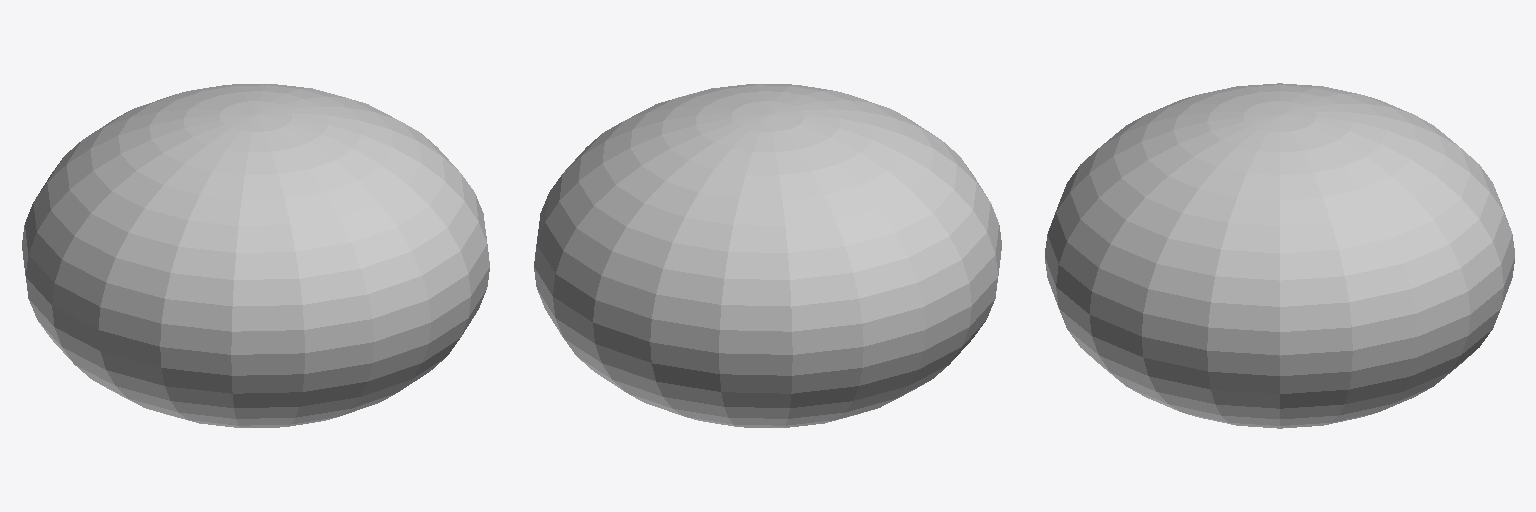
File: treeLeaves.obj
The picture shows the model from 3 angles: view 1: azimuth 30°, elevation 25°; view 2: azimuth 150°, elevation 25°; view 3: azimuth 270°, elevation 25°; orthographic projection.
Parts seen in each view (by area): view 1: pSphere1; view 2: pSphere1; view 3: pSphere1.
Part boxes in pixels (bbox=[...]): pSphere1: bbox=[22, 84, 489, 427]; pSphere1: bbox=[534, 84, 1001, 427]; pSphere1: bbox=[1045, 83, 1514, 428].
Bounding box in the file's own units: 8.23 × 5.44 × 8.23.